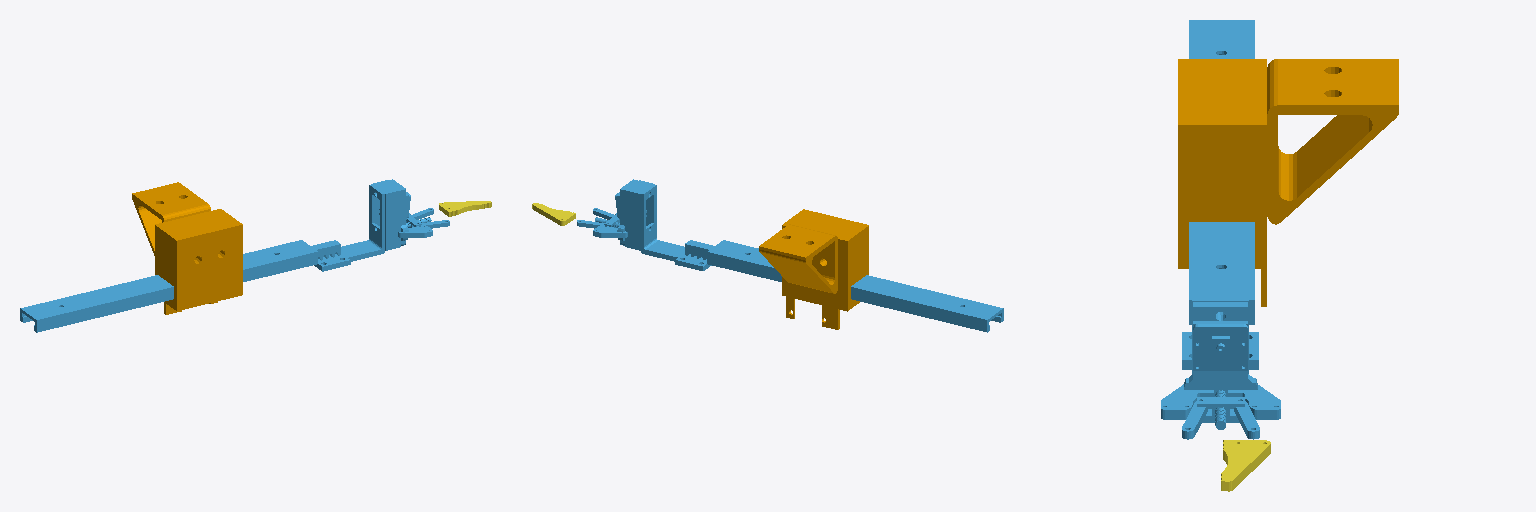
The robot description file, URDF, robot "brazo":
<?xml version="1.0" ?>

<robot name="brazo">
  <link name= "base_link">
    <visual>
      <origin rpi="0 0 0" xyz="0 0 0"/>
      <geometry>
        <mesh filename="package://brazo_assembly/meshes/base_link.STL" />
      </geometry>
    </visual>
    <collision>
      <origin xyz="0 0 0" rpy="0 0 0" />
      <geometry>
        <mesh filename="package://brazo_assembly/meshes/base_link.STL" />
      </geometry>
    </collision>
    <inertial>
      <origin xyz="-0.000143143841055618 0.0093355201368952 0.0425505188622381" rpy="0 0 0" />
      <mass value="0.214808103264679" />
      <inertia ixx="0.000132481426198286" ixy="1.188655205865E-07" ixz="-3.23742877341229E-07" iyy="0.000172352515935015" iyz="-6.2821695368927E-06" izz="0.000124522809981115" />
    </inertial>
  </link>

  <joint name="base_link__Link_brazo" type="prismatic">
    <axis xyz="0 0 1" />
    <limit effort="1000.0" lower="-0.09" upper="0.12" velocity="0.001" />
    <origin xyz="0.15257 -0.00014633 0.003" rpy="1.5708 0 1.5708" />
    <parent link="base_link" />
    <child link="Link_brazo" />
  </joint>

  <link name ="Link_brazo">
    <visual>
      <origin xyz="0 0 0" rpy="0 0 0" />
      <geometry>
        <mesh filename="package://brazo_assembly/meshes/Link_brazo.STL" />
      </geometry>
    </visual>
    <collision>
      <origin xyz="0 0 0" rpy="0 0 0" />
      <geometry>
        <mesh filename="package://brazo_assembly/meshes/Link_brazo.STL" />
      </geometry>
    </collision>
    <inertial>
      <origin xyz="0.00011792 0.019454 -0.085978" rpy="0 0 0" />
      <mass value="0.14" />
      <inertia ixx="0.00063531" ixy="1.2887E-09" ixz="1.2477E-10" iyy="0.00063245" iyz="-2.0574E-06" izz="2.1618E-05" />
    </inertial>
  </link>

  <link name="Link_viga_izquierda">
    <visual>
      <origin xyz="0 0 0" rpy="0 0 0" />
      <geometry>
        <mesh filename="package://brazo_assembly/meshes/Link_viga_izquierda.STL" />
      </geometry>
    </visual>
    <collision>
      <origin xyz="0 0 0" rpy="0 0 0" />
      <geometry>
        <mesh filename="package://brazo_assembly/meshes/Link_viga_izquierda.STL" />
      </geometry>
    </collision>
    <inertial>
      <origin xyz="-0.0054587 -0.0045 0.020602" rpy="0 0 0" />
      <mass value="0.0028443" />
      <inertia ixx="4.9933E-07" ixy="-5.3319E-23" ixz="1.2205E-08" iyy="5.1421E-07" iyz="4.1505E-23" izz="1.6781E-08" />
    </inertial>
  </link>

  <joint name="Link_brazo__Link_viga_izquierda" type="revolute">
    <axis xyz="0 1 0" />
    <limit lower="0" upper="1" effort="100" velocity="0.001" />
    <origin xyz="0.025315 0.0212 0.078512" rpy="0 -0.13439 0" />
    <parent link="Link_brazo" />
    <child link="Link_viga_izquierda" />
  </joint>

  <link name="Link_punta_izquierda">
    <visual>
      <origin xyz="0 0 0" rpy="0 0 0" />
      <geometry>
        <mesh filename="package://brazo_assembly/meshes/Link_punta_izquierda.STL" />
      </geometry>
    </visual>
    <collision>
      <origin xyz="0 0 0" rpy="0 0 0" />
      <geometry>
        <mesh filename="package://brazo_assembly/meshes/Link_punta_izquierda.STL" />
      </geometry>
    </collision>
    <inertial>
      <origin xyz="-0.010353 -0.0025 0.013922" rpy="0 0 0" />
      <mass value="0.0028494" />
      <inertia ixx="4.2796E-07" ixy="8.6609E-24" ixz="7.5238E-08" iyy="4.9556E-07" iyz="2.4565E-23" izz="7.9473E-08" />
    </inertial>
  </link>

  <joint name="Link_viga_izquierda__Link_punta_izquierda" type="revolute">
    <axis xyz="0 1 0" />
    <limit lower="-1" upper="0" effort="100" velocity="0.001" />
    <origin xyz="0 -0.002 0.04" rpy="0 0.10761 0" />
    <child link="Link_punta_izquierda" />
    <parent link="Link_viga_izquierda" />
    <mimic joint="Link_brazo__Link_viga_izquierda" multiplier="-1" offset="0" />
  </joint>

  <link name="Link_viga_derecha">
    <visual>
      <origin xyz="0 0 0" rpy="0 0 0" />
      <geometry>
        <mesh filename="package://brazo_assembly/meshes/Link_viga_derecha.STL" />
      </geometry>
    </visual>
    <collision>
      <origin xyz="0 0 0" rpy="0 0 0" />
      <geometry>
        <mesh filename="package://brazo_assembly/meshes/Link_viga_derecha.STL" />
      </geometry>
    </collision>
    <inertial>
      <origin xyz="0.0054603 -0.0045 0.020616" rpy="0 0 0" />
      <mass value="0.0028443" />
      <inertia ixx="4.9933E-07" ixy="-6.5376E-23" ixz="-1.22E-08" iyy="5.1421E-07" iyz="-3.4444E-22" izz="1.6781E-08" />
    </inertial>
  </link>

  <joint name="Link_brazo__Link_viga_derecha" type="revolute">
    <axis xyz="0 1 0" />
    <limit lower="-1" upper="0" effort="100" velocity="0.001" />
    <origin xyz="-0.025315 0.0212 0.078512" rpy="0 0.13167 0" />
    <child link="Link_viga_derecha" />
    <parent link="Link_brazo" />
    <mimic joint="Link_brazo__Link_viga_izquierda" multiplier="-1" offset="0" />
  </joint>

  <link name="Link_punta_derecha">
    <visual>
      <origin xyz="0 0 0" rpy="0 0 0" />
      <geometry>
        <mesh filename="package://brazo_assembly/meshes/Link_punta_derecha.STL" />
      </geometry>
    </visual>
    <collision>
      <origin xyz="0 0 0" rpy="0 0 0" />
      <geometry>
        <mesh filename="package://brazo_assembly/meshes/Link_punta_derecha.STL" />
      </geometry>
    </collision>
    <inertial>
      <origin xyz="0.010353 -0.0025 0.013922" rpy="0 0 0" />
      <mass value="0.0028494" />
      <inertia ixx="4.2796E-07" ixy="3.9739E-24" ixz="-7.5238E-08" iyy="4.9556E-07" iyz="2.3002E-23" izz="7.9473E-08" />
    </inertial>
  </link>

  <joint name="Link_viga_derecha__Link_punta_derecha" type="revolute">
    <axis xyz="0 1 0" />
    <limit lower="0" upper="1" effort="100" velocity="0.001" />
    <origin xyz="0 -0.002 0.04" rpy="0 -0.10535 0" />
    <child link="Link_punta_derecha" />
    <parent link="Link_viga_derecha" />
    <mimic joint="Link_brazo__Link_viga_derecha" multiplier="-1" offset="0" />
  </joint>
</robot>

--- Facts derived from the render (not from the file) ---
Views: 3 orthographic renders of the robot side by side, from view 1: azimuth 30°, elevation 25°; view 2: azimuth 150°, elevation 25°; view 3: azimuth 270°, elevation 25°.
Robot: brazo — 6 links, 5 joints (4 revolute, 1 prismatic); root link base_link; default pose: all joints at 0.
Links seen in each view (by area): view 1: Link_brazo, base_link, Link_punta_izquierda; view 2: Link_brazo, base_link; view 3: base_link, Link_brazo, Link_punta_izquierda.
Link boxes in pixels (x1=…): Link_brazo: x1=20, y1=179, x2=449, y2=332; base_link: x1=132, y1=182, x2=242, y2=314; Link_punta_izquierda: x1=439, y1=201, x2=491, y2=216; Link_brazo: x1=577, y1=179, x2=1003, y2=332; base_link: x1=759, y1=209, x2=868, y2=329; base_link: x1=1178, y1=59, x2=1398, y2=306; Link_brazo: x1=1161, y1=20, x2=1280, y2=439; Link_punta_izquierda: x1=1221, y1=440, x2=1270, y2=491.
Size in the robot's own frame: 0.4937 by 0.1084 by 0.0986 metres.
Meshes: 6 distinct files referenced, 3 mesh visuals loaded (3 binary STL); not drawn: 3 (reference not matched to a file when rendering).